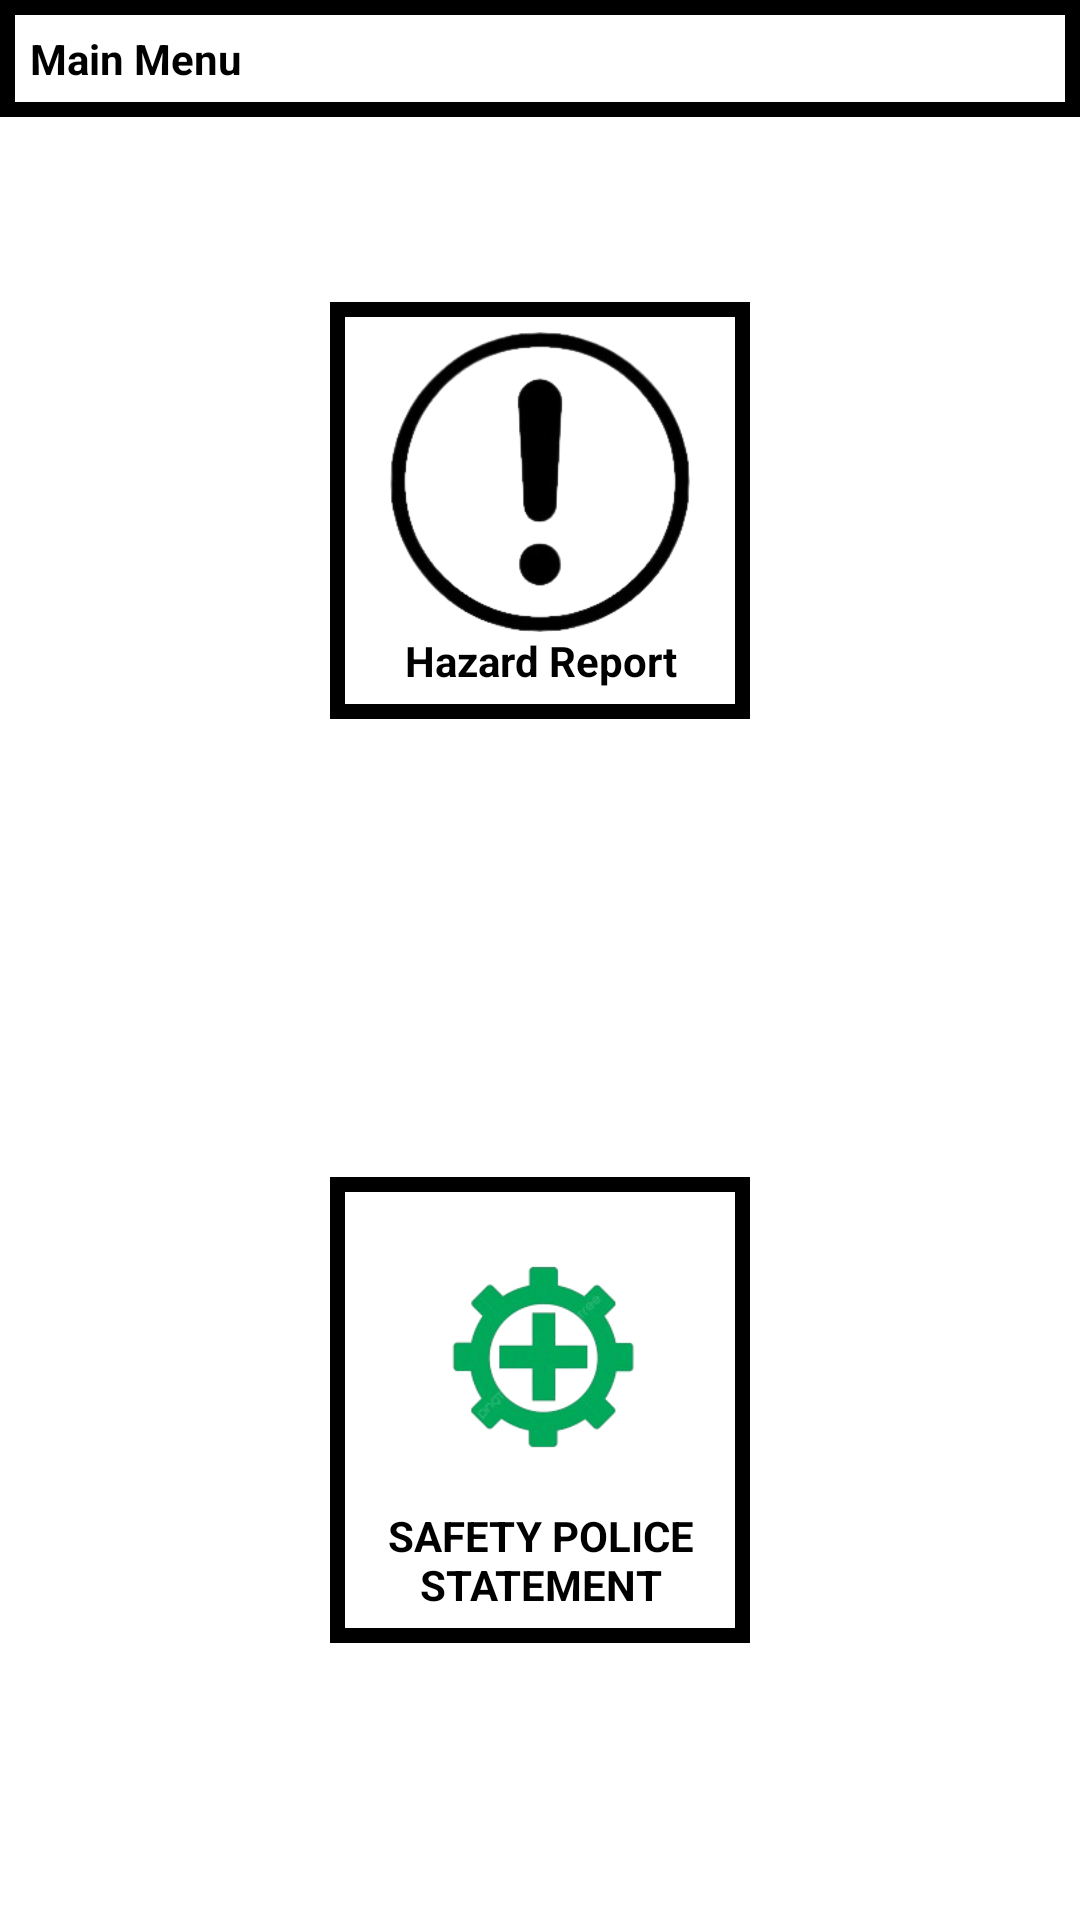

Named icons in this screenshot (1080px×1920px) and their centers, point (x, y):
tanda seru: point (540, 482)
